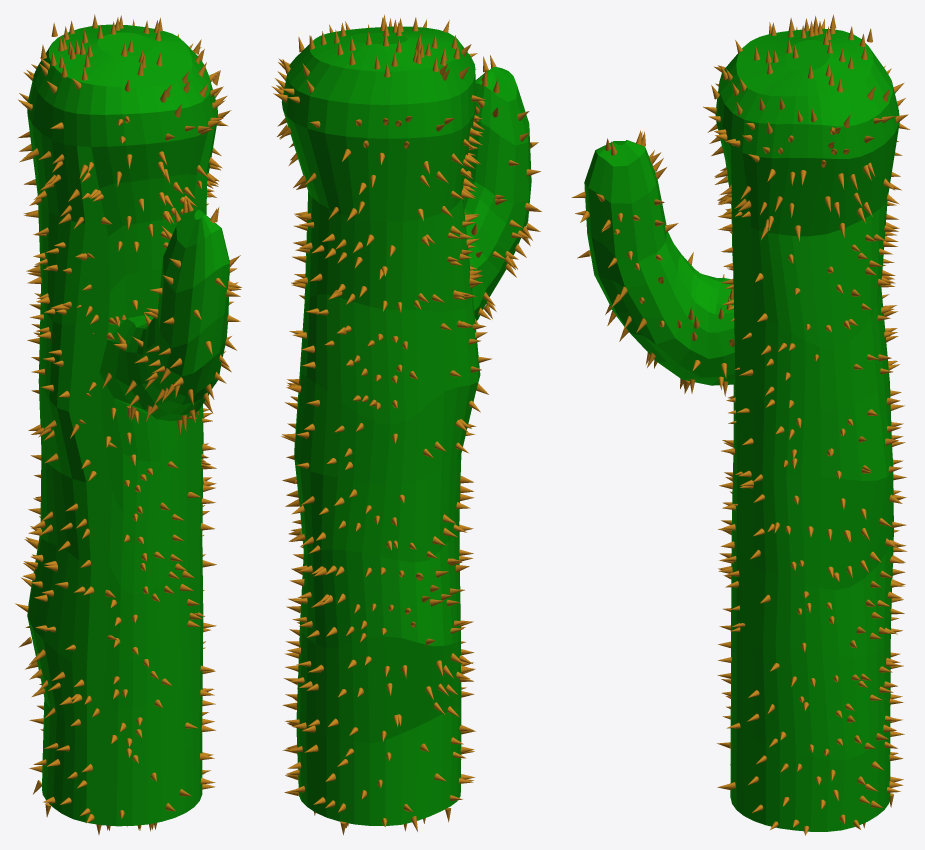
File: M_cactusA.fbx
3 renders of one model, left to right at view 1: azimuth 30°, elevation 25°; view 2: azimuth 150°, elevation 25°; view 3: azimuth 270°, elevation 25°, orthographic.
Visible parts, largest first — view 1: Cylinder; view 2: Cylinder; view 3: Cylinder.
Part boxes in pixels (x1,y1,x2,y2): Cylinder: [27, 24, 229, 826]; Cylinder: [281, 26, 531, 825]; Cylinder: [584, 28, 899, 831].
Bounding box in the file's own units: 181 × 720 × 286.
